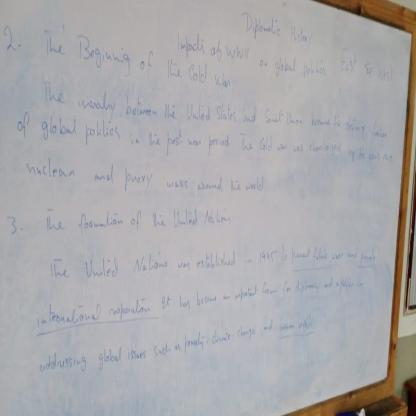Handwritten text: (26, 253, 372, 344), (29, 299, 322, 397), (6, 109, 397, 182), (36, 78, 395, 146), (45, 231, 381, 291), (31, 22, 239, 113), (25, 154, 273, 203), (167, 31, 336, 90), (41, 199, 239, 239), (322, 40, 411, 110), (234, 8, 320, 52)
